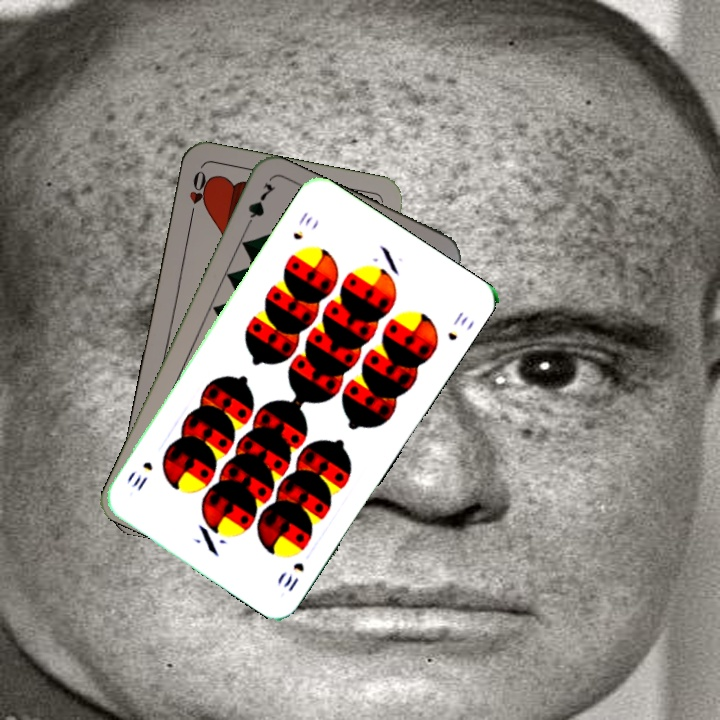G7: (240, 178, 278, 234)
HO: (185, 166, 212, 224)
S10: (279, 558, 307, 595), (288, 207, 315, 243)
